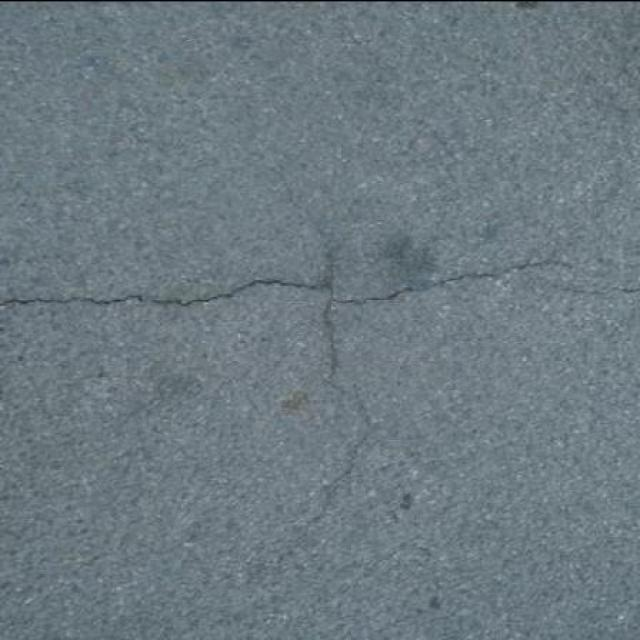Crack: (0, 176, 573, 531), (579, 286, 639, 295)
